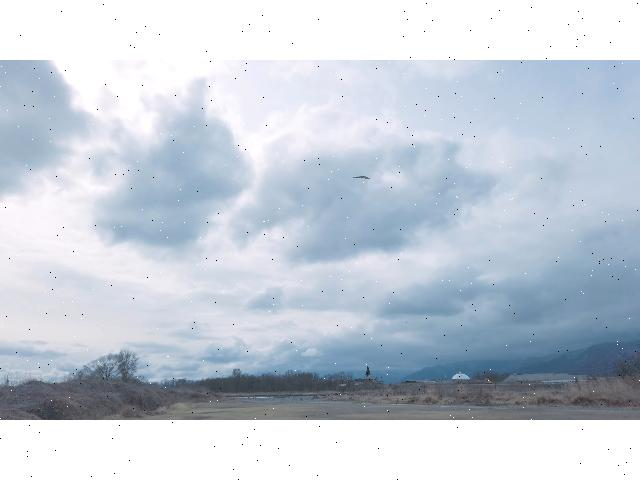Anti-Drone: (351, 173, 371, 183)
